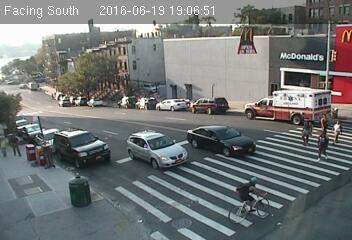neg: (229, 171, 267, 221), (154, 134, 181, 169), (287, 56, 312, 90), (231, 87, 249, 112), (340, 34, 351, 50)
pos: (313, 130, 335, 159), (297, 117, 318, 144), (331, 119, 351, 146), (4, 132, 23, 156), (318, 112, 331, 129)
